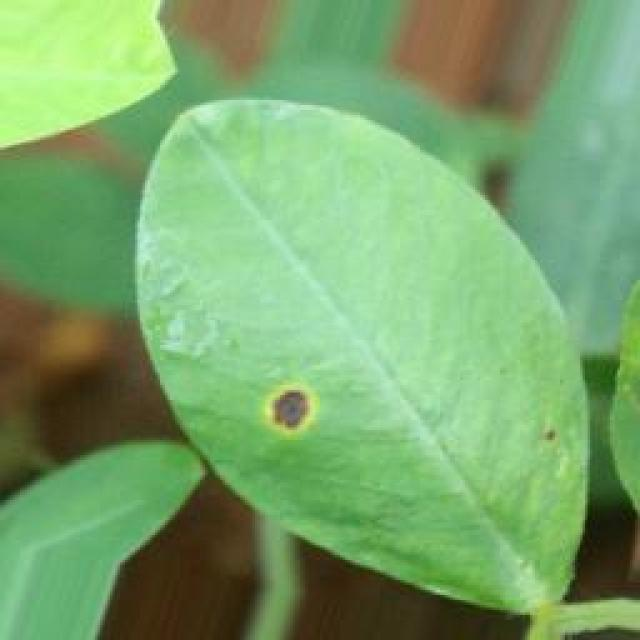Sigatoka: (254, 370, 338, 476), (512, 404, 585, 472)
